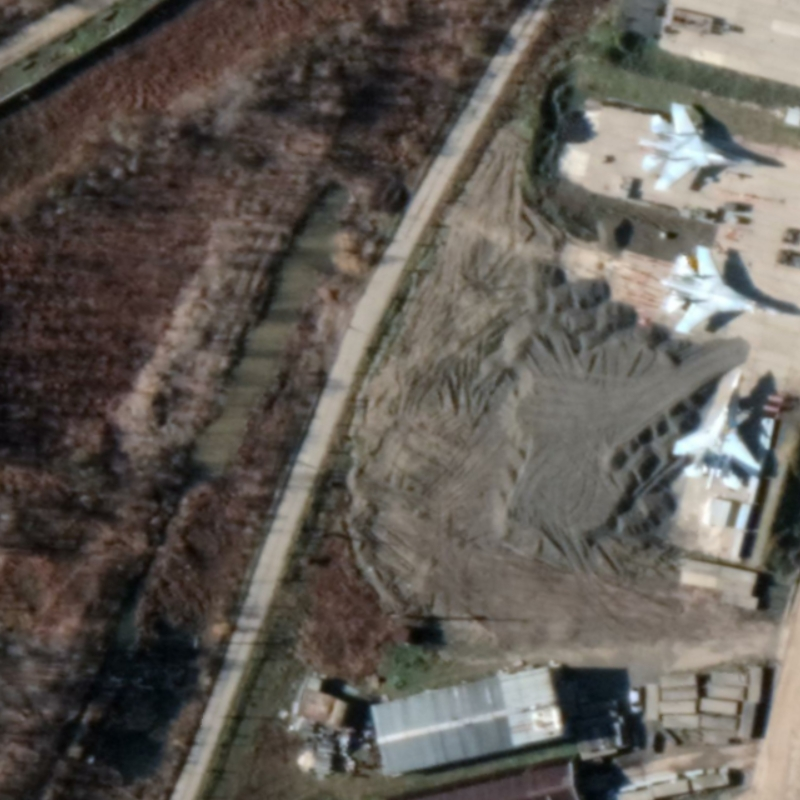A1: (658, 242, 800, 335), (636, 100, 777, 193), (669, 370, 769, 493)
